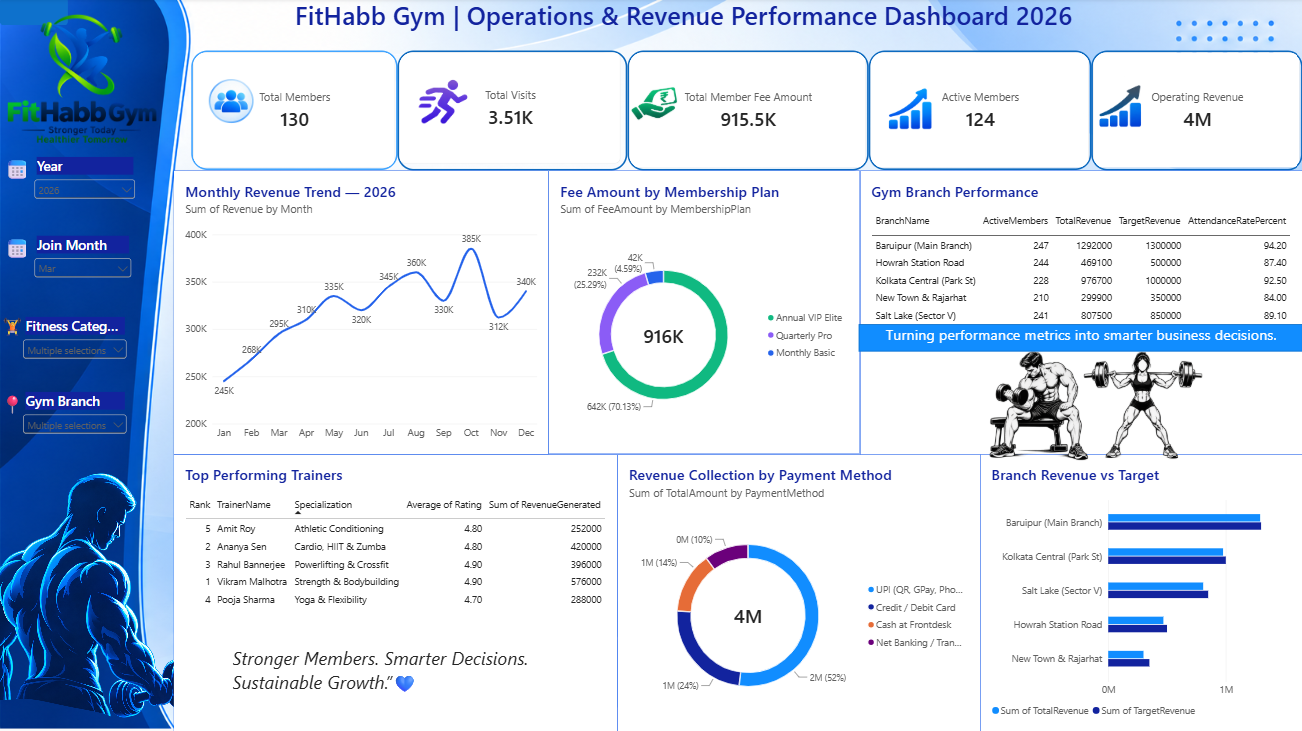

The page's visual inventory and layout, read from the dashboard file:
{"tool":"powerbi","page":{"name":"Page 1","canvas":[1920,1080],"ordinal":0},"visuals":[{"type":"cardVisual","fields":{"Data":["Gym_Master_Data.Total Members"]},"box":[282,78,304,176],"z":0},{"type":"cardVisual","fields":{"Data":["Gym_Master_Data.Active Members"]},"box":[1280,78,328,176],"z":1000},{"type":"cardVisual","fields":{"Data":["Gym_Master_Data.Total Member Fee Amount"]},"box":[923.9,77.3,355.2,176.7],"z":2000},{"type":"cardVisual","fields":{"Data":["Gym_Master_Data.Total Visits"]},"box":[585.3,77.3,338.7,176.7],"z":3000},{"type":"cardVisual","fields":{"Data":["Gym_Master_Data.Operating Revenue"]},"box":[1606.8,77.3,312.9,176.7],"z":4000},{"type":"textbox","box":[242.5,0,1527.5,70],"z":5000},{"type":"lineChart","title":"Monthly Revenue Trend — 2026","fields":{"Category":["Monthly_Performance_Trend.Month"],"Y":["Sum(Monthly_Performance_Trend.Revenue)"]},"box":[256,254,552,418],"z":6000},{"type":"donutChart","title":"Fee Amount by Membership Plan","fields":{"Category":["Gym_Master_Data.MembershipPlan"],"Y":["Sum(Gym_Master_Data.FeeAmount)"]},"box":[808,254,458.3,417.8],"z":7000},{"type":"tableEx","title":"Gym Branch Performance","fields":{"Values":["Branch_Performance.BranchName","Branch_Performance.ActiveMembers","Branch_Performance.TotalRevenue","Branch_Performance.TargetRevenue","Branch_Performance.AttendanceRatePercent"]},"box":[1266.3,254,653.4,419.6],"z":8000},{"type":"tableEx","title":"Top Performing Trainers","fields":{"Values":["Top_Trainers.Rank","Top_Trainers.TrainerName","Top_Trainers.Specialization","Avg(Top_Trainers.Rating)","Sum(Top_Trainers.RevenueGenerated)"]},"box":[255.8,671.8,653.4,408.6],"z":9000},{"type":"donutChart","title":"Revenue Collection by Payment Method","fields":{"Category":["Payment_Methods.PaymentMethod"],"Y":["Sum(Payment_Methods.TotalAmount)"]},"box":[909.2,671.8,535.6,408.6],"z":10000},{"type":"slicer","fields":{"Values":["Gym_Master_Data.Year"]},"box":[46,234,158,90],"z":11000},{"type":"slicer","title":"Fitness Category","fields":{"Values":["Gym_Master_Data.FitnessCategory"]},"box":[30,470,162,98],"z":12000},{"type":"slicer","title":"Gym Branch","fields":{"Values":["Gym_Master_Data.BranchName"]},"box":[30,580,162,92],"z":13000},{"type":"slicer","title":"Join Month","fields":{"Values":["Gym_Master_Data.JoinMonth"]},"box":[46,350,152,96],"z":14000},{"type":"textbox","box":[14,60,114,64],"z":15000},{"type":"actionButton","box":[0,0,100,40],"z":16000},{"type":"image","box":[0,671.8,204.3,408.6],"z":17000},{"type":"image","box":[10,20,222,200],"z":18000},{"type":"textbox","box":[302,0,98,400],"z":19000},{"type":"textbox","box":[0,580,192,46],"z":20000},{"type":"textbox","box":[0,464,128,76],"z":21000},{"type":"textbox","box":[0,350,112,96],"z":22000},{"type":"textbox","box":[0,234,56,166],"z":23000},{"type":"clusteredBarChart","title":"Branch Revenue vs Target","fields":{"Category":["Branch_Performance.BranchName"],"Y":["Sum(Branch_Performance.TotalRevenue)","Sum(Branch_Performance.TargetRevenue)"]},"box":[1443,671.8,476.7,408.6],"z":24000},{"type":"image","box":[282.5,70,117.5,165],"z":25000},{"type":"image","box":[596.3,79.1,116,147.2],"z":26000},{"type":"image","box":[923.9,69.9,82.8,163.8],"z":27000},{"type":"image","box":[1266.3,79.1,110.4,163.8],"z":28000},{"type":"image","box":[1573.6,75.5,119.6,158.3],"z":29000},{"type":"image","box":[1444.8,445.4,327.5,300],"z":30000},{"type":"shape","box":[1265,480,655,40],"z":31000},{"type":"textbox","box":[1265,480,655,40],"z":32000},{"type":"textbox","box":[342.5,952.5,465,90],"z":33000}]}

Visuals, with their boxes in screenshot pixels (x1, y1, x2, y2):
cardVisual - Gym_Master_Data.Total Members: crop(195, 52, 399, 170)
cardVisual - Gym_Master_Data.Active Members: crop(863, 52, 1082, 170)
cardVisual - Gym_Master_Data.Total Member Fee Amount: crop(625, 52, 862, 170)
cardVisual - Gym_Master_Data.Total Visits: crop(398, 52, 625, 170)
cardVisual - Gym_Master_Data.Operating Revenue: crop(1081, 52, 1291, 170)
textbox: crop(169, 0, 1190, 47)
"Monthly Revenue Trend — 2026" lineChart: crop(178, 170, 547, 449)
"Fee Amount by Membership Plan" donutChart: crop(547, 170, 854, 449)
"Gym Branch Performance" tableEx: crop(854, 170, 1291, 450)
"Top Performing Trainers" tableEx: crop(178, 449, 615, 723)
"Revenue Collection by Payment Method" donutChart: crop(615, 449, 973, 723)
slicer - Gym_Master_Data.Year: crop(38, 156, 143, 217)
"Fitness Category" slicer: crop(27, 314, 135, 380)
"Gym Branch" slicer: crop(27, 388, 135, 449)
"Join Month" slicer: crop(38, 234, 139, 298)
textbox: crop(16, 40, 92, 83)
actionButton: crop(7, 0, 74, 27)
image: crop(7, 449, 143, 723)
image: crop(13, 13, 162, 147)
textbox: crop(209, 0, 274, 268)
textbox: crop(7, 388, 135, 419)
textbox: crop(7, 310, 92, 361)
textbox: crop(7, 234, 82, 298)
textbox: crop(7, 156, 44, 268)
"Branch Revenue vs Target" clusteredBarChart: crop(972, 449, 1291, 723)
image: crop(196, 47, 274, 157)
image: crop(406, 53, 483, 151)
image: crop(625, 47, 680, 156)
image: crop(854, 53, 927, 162)
image: crop(1059, 50, 1139, 156)
image: crop(973, 298, 1192, 498)
shape: crop(853, 321, 1291, 348)
textbox: crop(853, 321, 1291, 348)
textbox: crop(236, 637, 547, 697)
